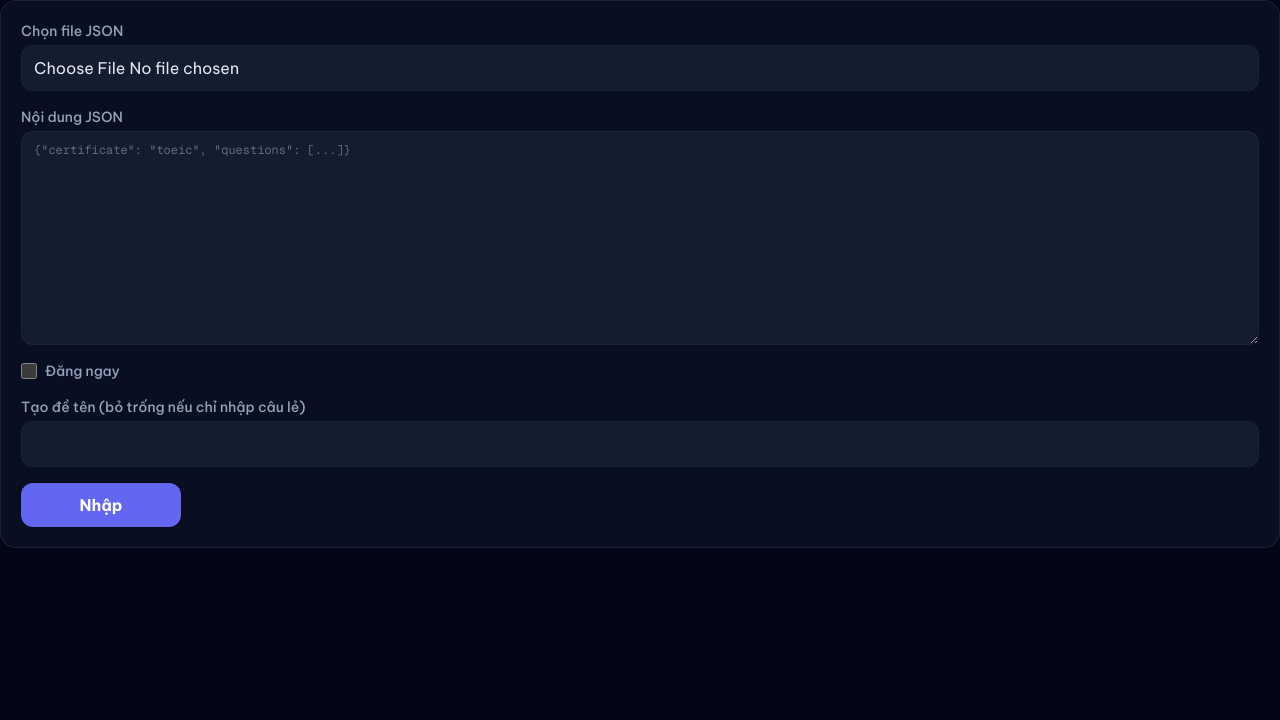
Test: ImportForm › báo thành công kèm link danh sách câu hỏi và đề vừa tạo
This screenshot has width=1280, height=720.
Click the button "Nhập".
click(101, 505)  # box [21,483,181,527]
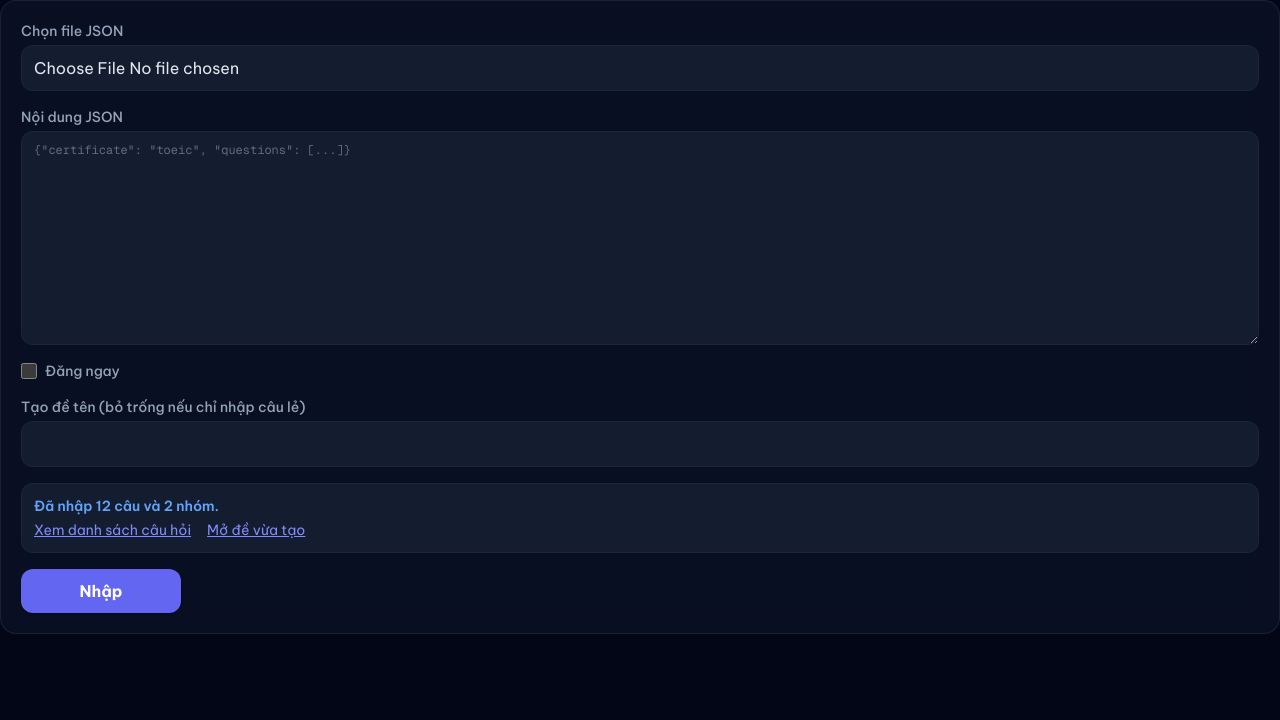
Check: the text "Đã nhập 12 câu và 2 nhóm." is shown, box [34,497,219,515]
